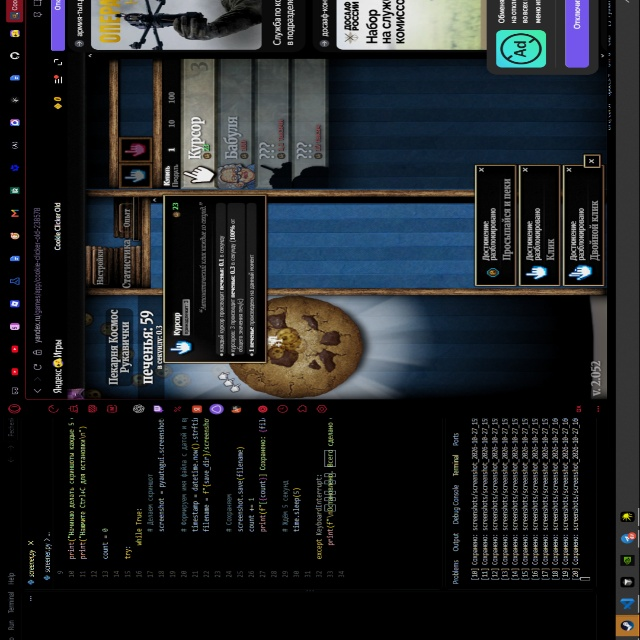game: (259, 299, 364, 395)
pokypki: (104, 52, 344, 195)
